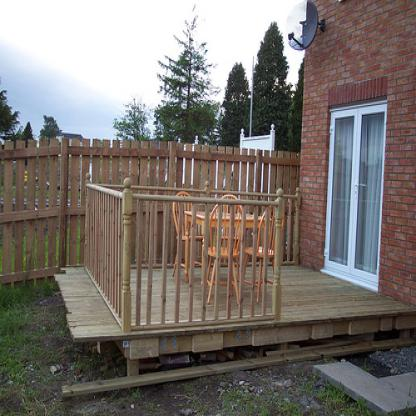chair: (206, 192, 243, 306), (244, 202, 284, 303), (171, 188, 204, 284)
diningtable: (183, 208, 272, 290)
